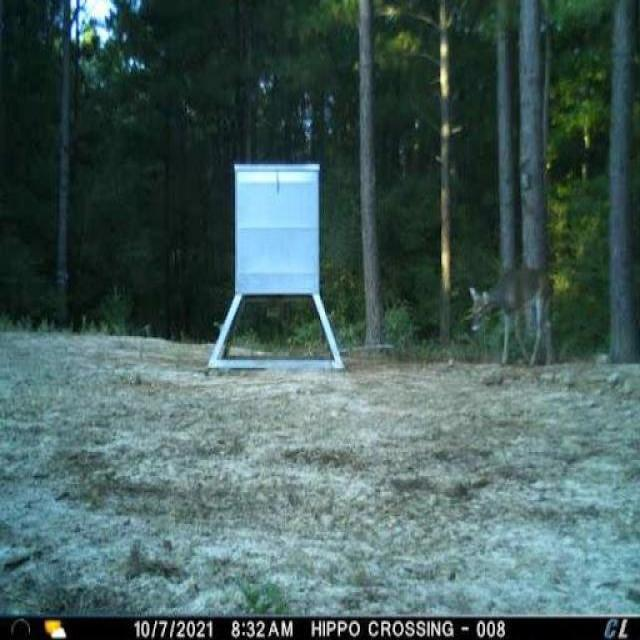deer: (457, 258, 568, 371)
